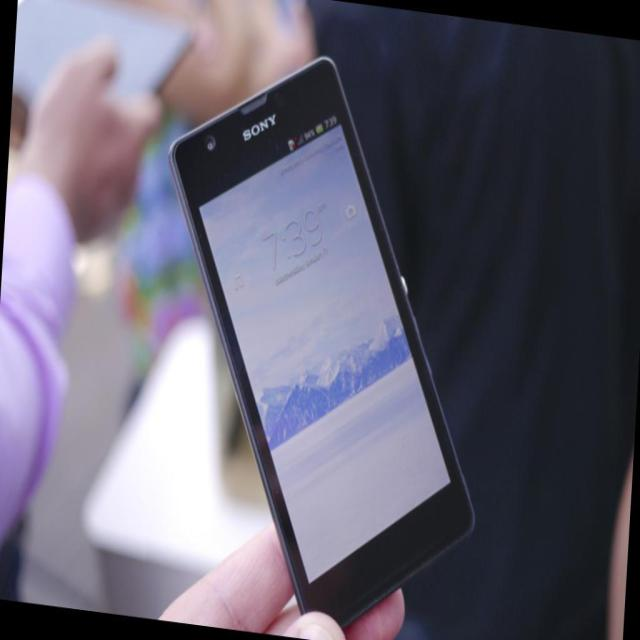handphone: (168, 58, 472, 590)
